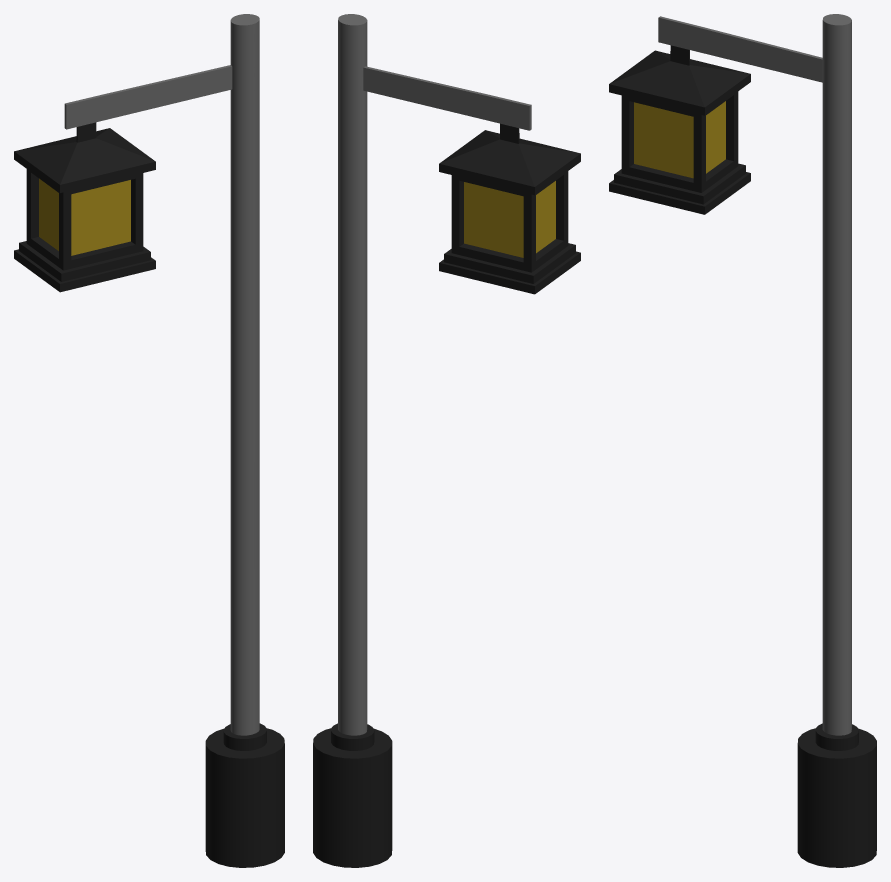
Rendered from StreetLamp_M_v1_Carrie.FBX.
3 views of the same model, side by side, from view 1: azimuth 30°, elevation 25°; view 2: azimuth 150°, elevation 25°; view 3: azimuth 330°, elevation 25° (orthographic).
Parts seen in each view (by area): view 1: streetlamp; view 2: streetlamp; view 3: streetlamp.
Part boxes in pixels (box(x1,y1,x2,y2)): streetlamp: box(14, 14, 284, 867); streetlamp: box(313, 14, 580, 867); streetlamp: box(609, 14, 876, 867).
Size of the model in its own units: 333 by 1096 by 110.
